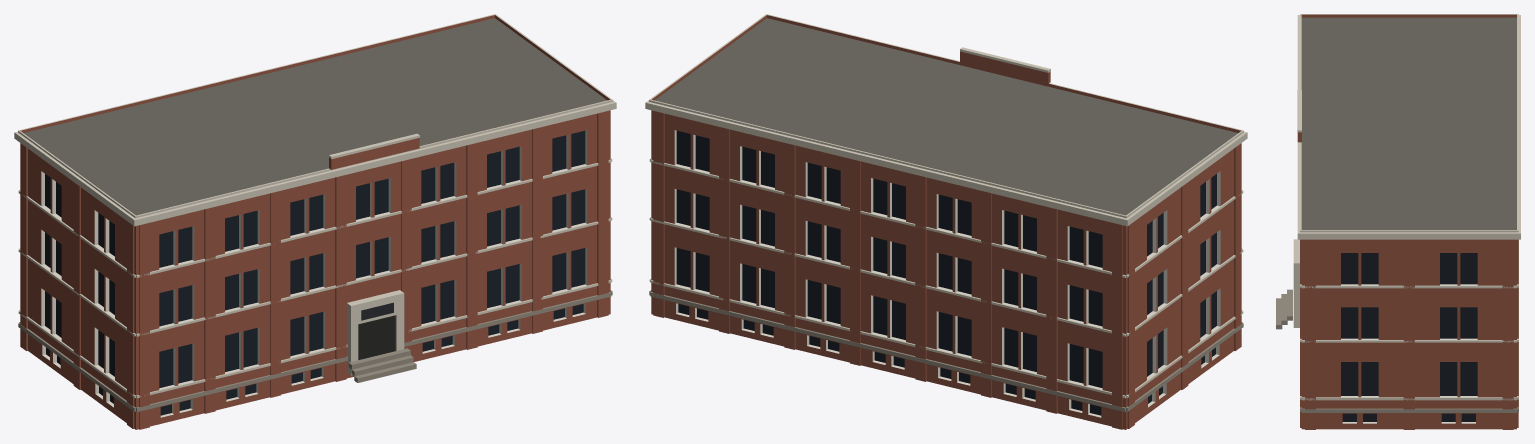
Rendered from catholic-high-school.glb.
3 renders of one model, left to right at view 1: azimuth 30°, elevation 25°; view 2: azimuth 150°, elevation 25°; view 3: azimuth 270°, elevation 25°, orthographic. The views are drawn at different scales.
Parts seen in each view (by area): view 1: catholic_brick, catholic_roof, catholic_glass, catholic_stone, catholic_sash, catholic_base, catholic_dark; view 2: catholic_brick, catholic_roof, catholic_glass, catholic_stone, catholic_sash, catholic_base; view 3: catholic_roof, catholic_brick, catholic_glass, catholic_stone, catholic_base, catholic_sash.
Part boxes in pixels (x1=…): catholic_brick: x1=20, y1=15, x2=610, y2=429; catholic_roof: x1=23, y1=18, x2=607, y2=215; catholic_glass: x1=45, y1=130, x2=585, y2=415; catholic_stone: x1=14, y1=14, x2=616, y2=398; catholic_sash: x1=41, y1=130, x2=587, y2=417; catholic_base: x1=18, y1=290, x2=612, y2=411; catholic_dark: x1=358, y1=315, x2=395, y2=359; catholic_brick: x1=651, y1=15, x2=1241, y2=429; catholic_roof: x1=654, y1=18, x2=1238, y2=215; catholic_glass: x1=676, y1=130, x2=1216, y2=415; catholic_stone: x1=645, y1=14, x2=1247, y2=398; catholic_sash: x1=674, y1=130, x2=1220, y2=417; catholic_base: x1=649, y1=290, x2=1243, y2=411; catholic_roof: x1=1301, y1=17, x2=1516, y2=229; catholic_brick: x1=1297, y1=14, x2=1518, y2=429; catholic_glass: x1=1341, y1=253, x2=1477, y2=421; catholic_stone: x1=1293, y1=14, x2=1520, y2=400; catholic_base: x1=1276, y1=240, x2=1518, y2=412; catholic_sash: x1=1341, y1=284, x2=1477, y2=423.
Size of the model in its own units: 32.7 by 14.75 by 15.47.
